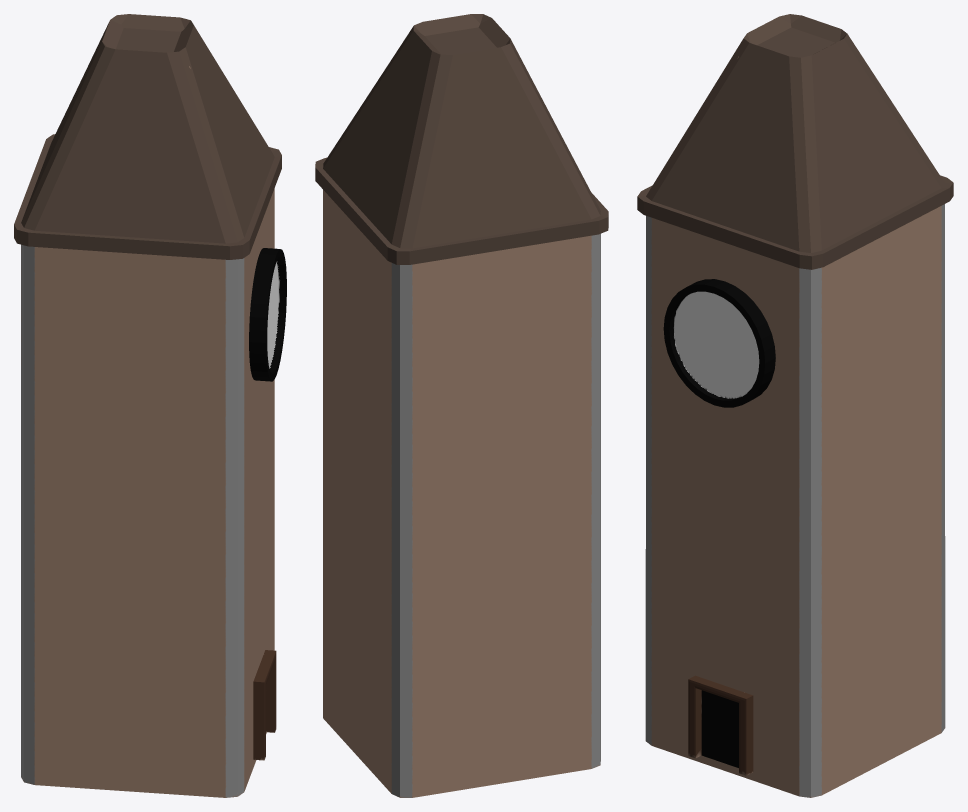
Rendered from ClockTower.fbx.
3 views of the same model, side by side, from view 1: azimuth 30°, elevation 25°; view 2: azimuth 150°, elevation 25°; view 3: azimuth 270°, elevation 25° (orthographic).
Parts seen in each view (by area): view 1: Cube.059; view 2: Cube.059; view 3: Cube.059.
Boxes of the visible parts, <box> form: Cube.059: <box>14,14,286,797</box>; Cube.059: <box>315,14,608,797</box>; Cube.059: <box>637,14,953,797</box>.
Bounding box in the file's own units: 4423 × 10788 × 4423.
Materials: 1 (1 with a texture image).
